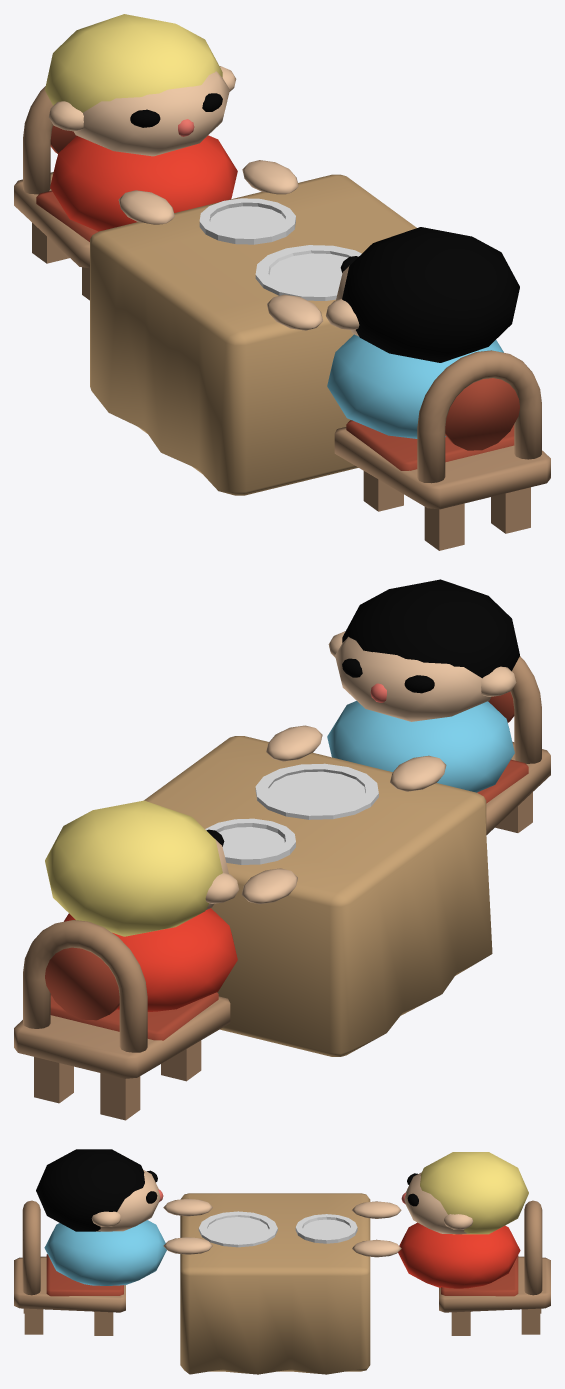
Rendered from RestarauntPeople2.glb.
3 renders of one model, top to bottom at view 1: azimuth 30°, elevation 25°; view 2: azimuth 150°, elevation 25°; view 3: azimuth 270°, elevation 25°, orthographic. The views are drawn at different scales.
Parts seen in each view (by area): view 1: Cylinder.003; view 2: Cylinder.003; view 3: Cylinder.003.
Part boxes in pixels (bbox=[...]): Cylinder.003: bbox=[14, 14, 550, 550]; Cylinder.003: bbox=[14, 579, 550, 1120]; Cylinder.003: bbox=[14, 1149, 550, 1374].
Size of the model in its own units: 3.78 by 3.54 by 9.6.
